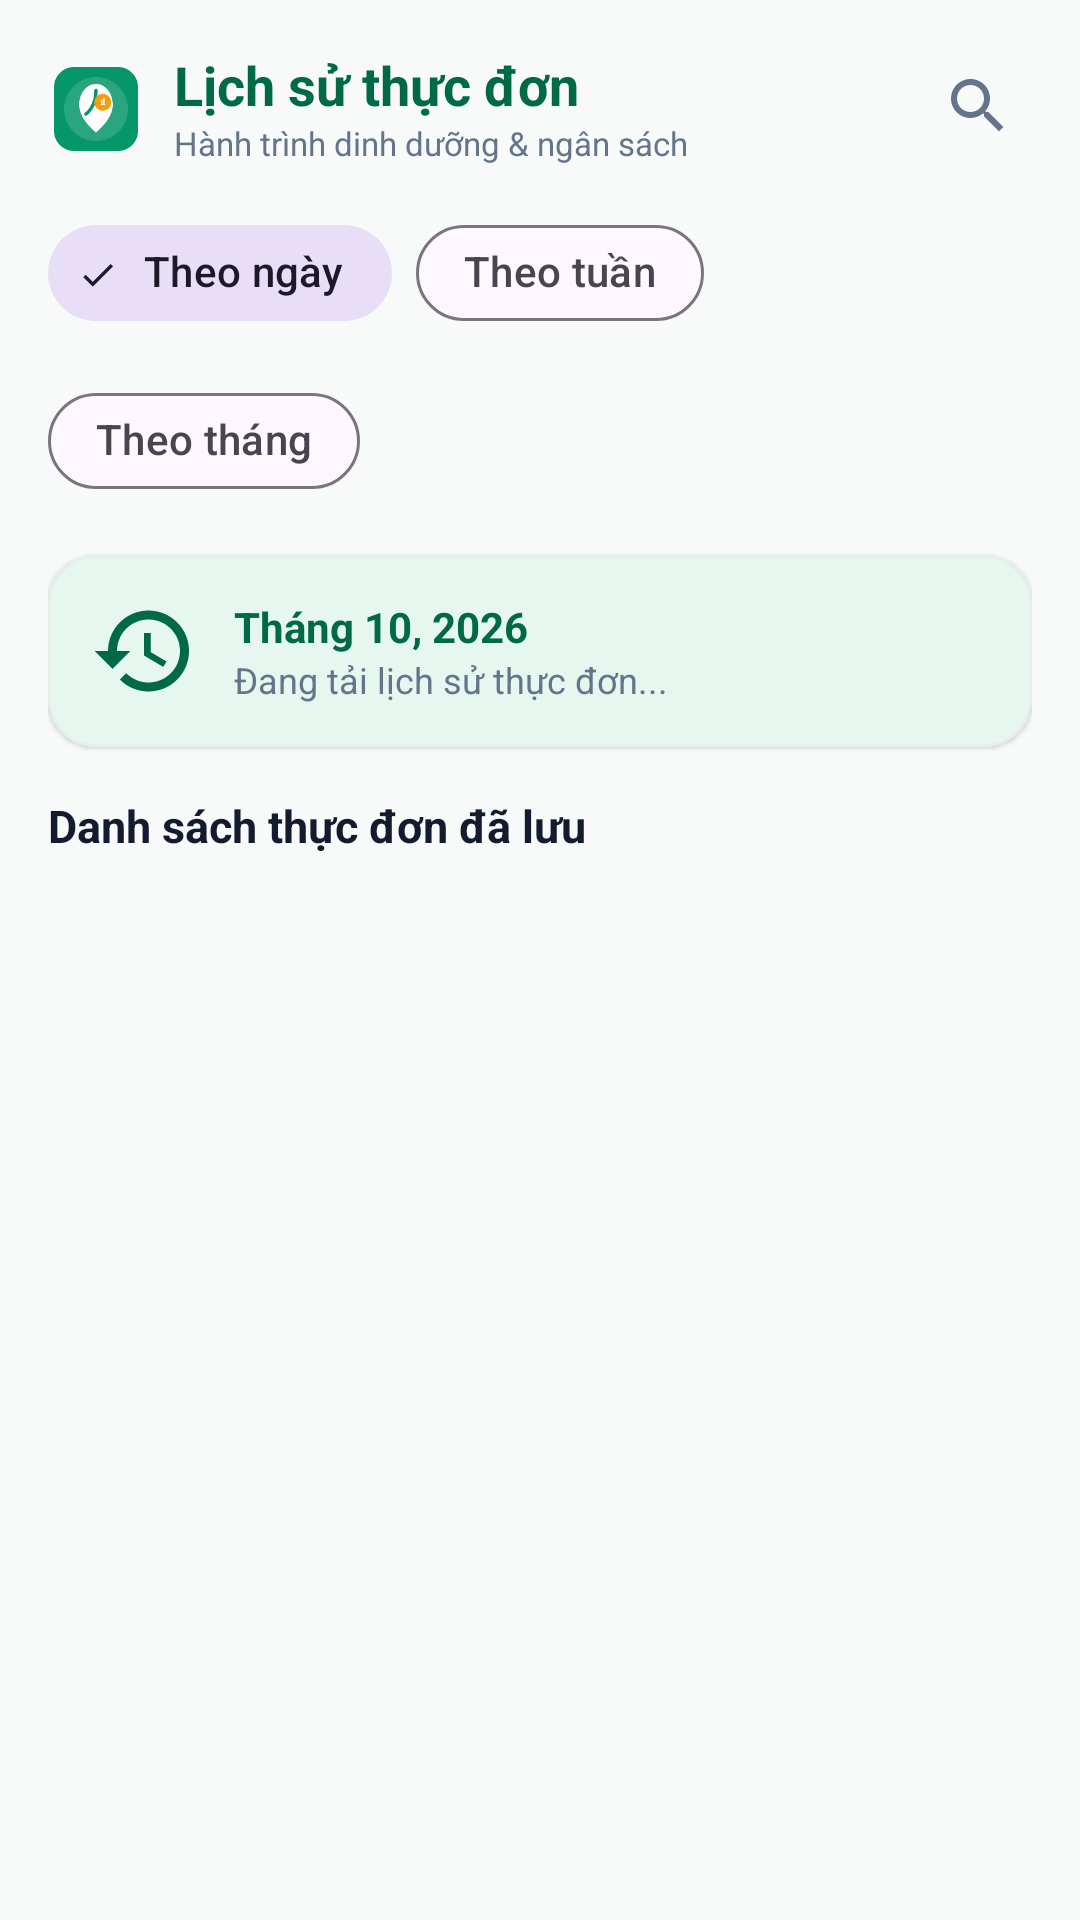

Icons on this 1080×1920 Android screen, each with its box as box=[x1, y1, x2, y2]:
History icon: box=[95, 610, 189, 692]
Tìm kiếm: box=[951, 79, 1003, 131]
